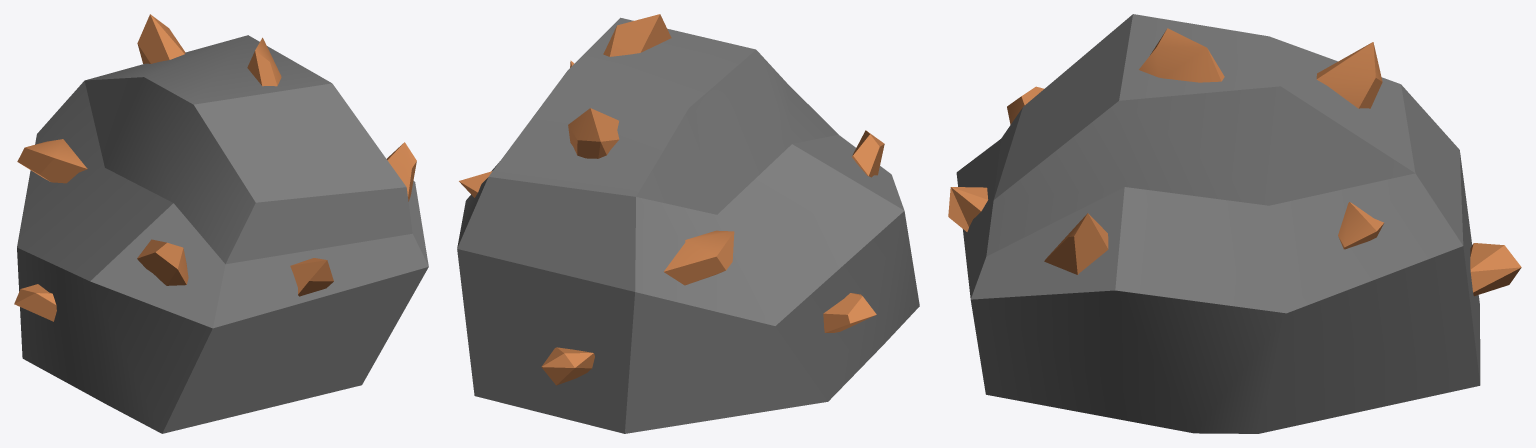
File: MineLvl1.fbx
3 renders of one model, left to right at view 1: azimuth 30°, elevation 25°; view 2: azimuth 150°, elevation 25°; view 3: azimuth 270°, elevation 25°, orthographic. The views are drawn at different scales.
Parts seen in each view (by area): view 1: MineLvl1; view 2: MineLvl1; view 3: MineLvl1.
Boxes of the visible parts, x1,y1,x2,y2 form: MineLvl1: (14, 14, 428, 433); MineLvl1: (457, 14, 919, 433); MineLvl1: (948, 14, 1521, 433).
Size of the model in its own units: 358 by 273 by 408.
